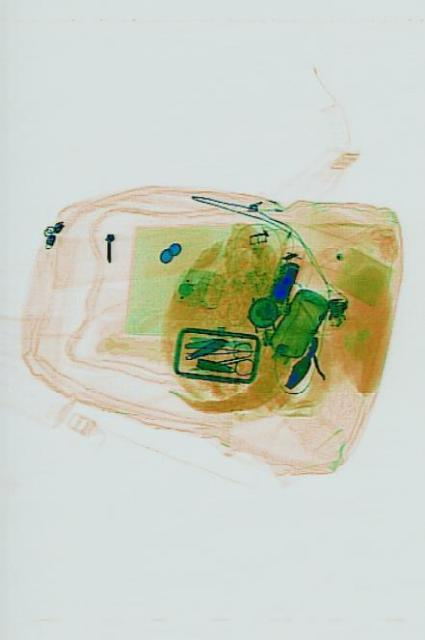Scissors: (198, 338, 251, 382)
